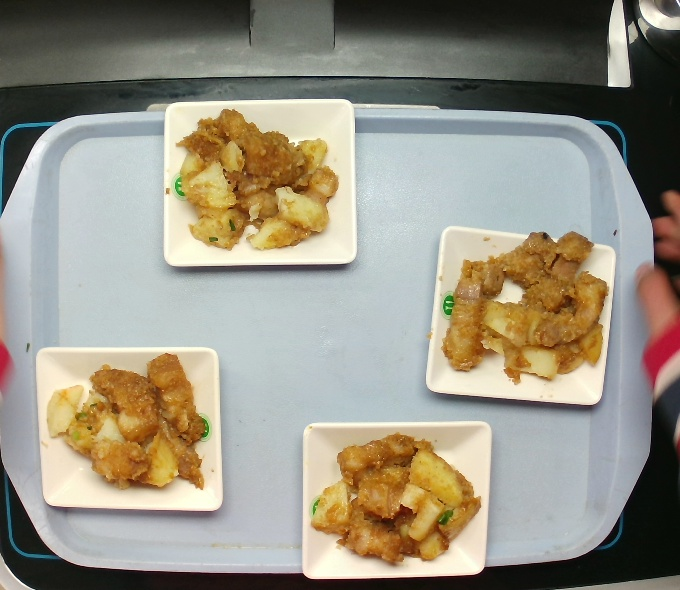wcq-FenZhenRou: (443, 218, 598, 392), (175, 100, 336, 256), (56, 342, 205, 504), (321, 431, 471, 562)
